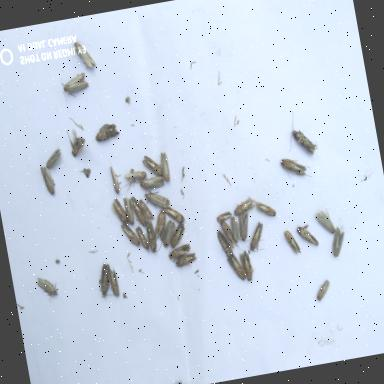pbw: (277, 146, 316, 186), (242, 214, 273, 258), (56, 70, 93, 106), (31, 270, 64, 308), (68, 37, 100, 75), (63, 120, 91, 162), (310, 204, 342, 240), (89, 258, 115, 302), (326, 221, 353, 263), (159, 239, 195, 269), (139, 217, 166, 257), (246, 189, 278, 222), (34, 162, 59, 202), (231, 207, 256, 244), (138, 150, 166, 183), (116, 165, 150, 192), (142, 186, 172, 216), (164, 220, 190, 254), (294, 216, 320, 250), (153, 218, 179, 252), (226, 190, 257, 218), (146, 209, 172, 242), (158, 200, 188, 228), (118, 222, 144, 254), (105, 262, 126, 301), (280, 226, 304, 260), (92, 119, 123, 145), (116, 194, 138, 230), (225, 252, 248, 286), (307, 276, 333, 306), (127, 192, 148, 228), (236, 249, 256, 285), (108, 196, 130, 228), (166, 252, 200, 272), (214, 230, 235, 262), (39, 144, 63, 172), (218, 216, 240, 246), (134, 222, 152, 258), (156, 148, 173, 186), (137, 174, 169, 194), (226, 219, 244, 250), (136, 197, 156, 224), (208, 206, 232, 227), (109, 164, 124, 196)
